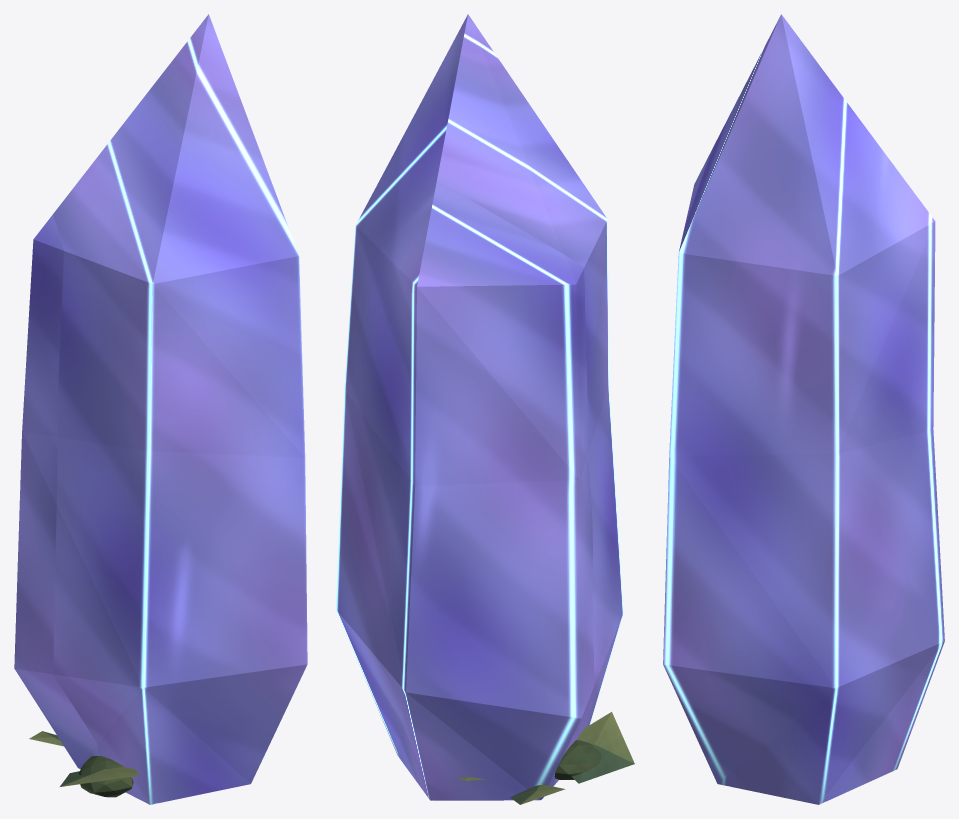
File: forest_crystal_purple.glb
3 renders of one model, left to right at view 1: azimuth 30°, elevation 25°; view 2: azimuth 150°, elevation 25°; view 3: azimuth 270°, elevation 25°, orthographic. The views are drawn at different scales.
Parts seen in each view (by area): view 1: Faceted magical crystal.001, Woodland shared moss cushion.016, Woodland shared curved ivy leaf.025; view 2: Faceted magical crystal.001, Woodland shared curved ivy leaf.025, Woodland shared moss cushion.016, Woodland shared curved ivy leaf.027; view 3: Faceted magical crystal.001.
Boxes of the visible parts, left/top/right/bottom form: Faceted magical crystal.001: left=14, top=14, right=307, bottom=804; Woodland shared moss cushion.016: left=78, top=756, right=133, bottom=797; Woodland shared curved ivy leaf.025: left=60, top=767, right=138, bottom=786; Faceted magical crystal.001: left=336, top=14, right=623, bottom=800; Woodland shared curved ivy leaf.025: left=571, top=712, right=634, bottom=783; Woodland shared moss cushion.016: left=554, top=740, right=601, bottom=779; Woodland shared curved ivy leaf.027: left=510, top=784, right=565, bottom=804; Faceted magical crystal.001: left=663, top=14, right=944, bottom=804.
Size of the model in its own units: 0.6088 by 1.64 by 0.548.
5 materials, 5 textured.
